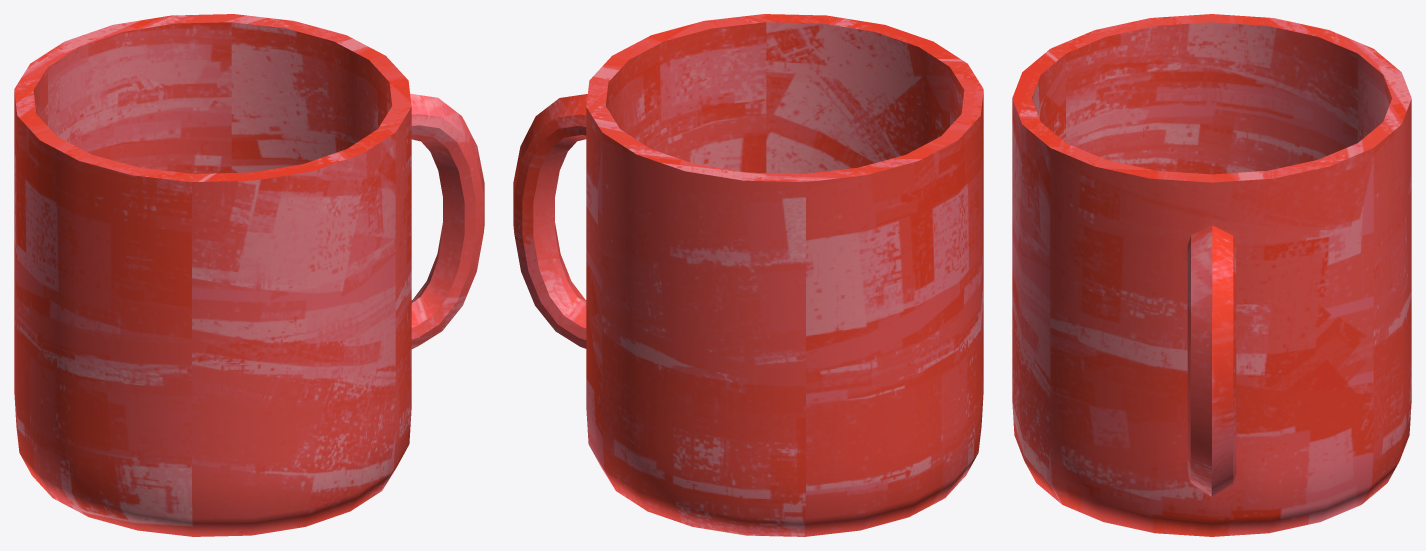
File: RedMug.obj
3 views of the same model, side by side, from view 1: azimuth 30°, elevation 25°; view 2: azimuth 150°, elevation 25°; view 3: azimuth 270°, elevation 25° (orthographic).
Parts seen in each view (by area): view 1: Mug:pCylinder12; view 2: Mug:pCylinder12; view 3: Mug:pCylinder12.
Part boxes in pixels (x1,y1,x2,y2): Mug:pCylinder12: [14, 14, 484, 536]; Mug:pCylinder12: [513, 14, 983, 536]; Mug:pCylinder12: [1012, 14, 1411, 536].
Bounding box in the file's own units: 1.33 × 1.03 × 1.04.
